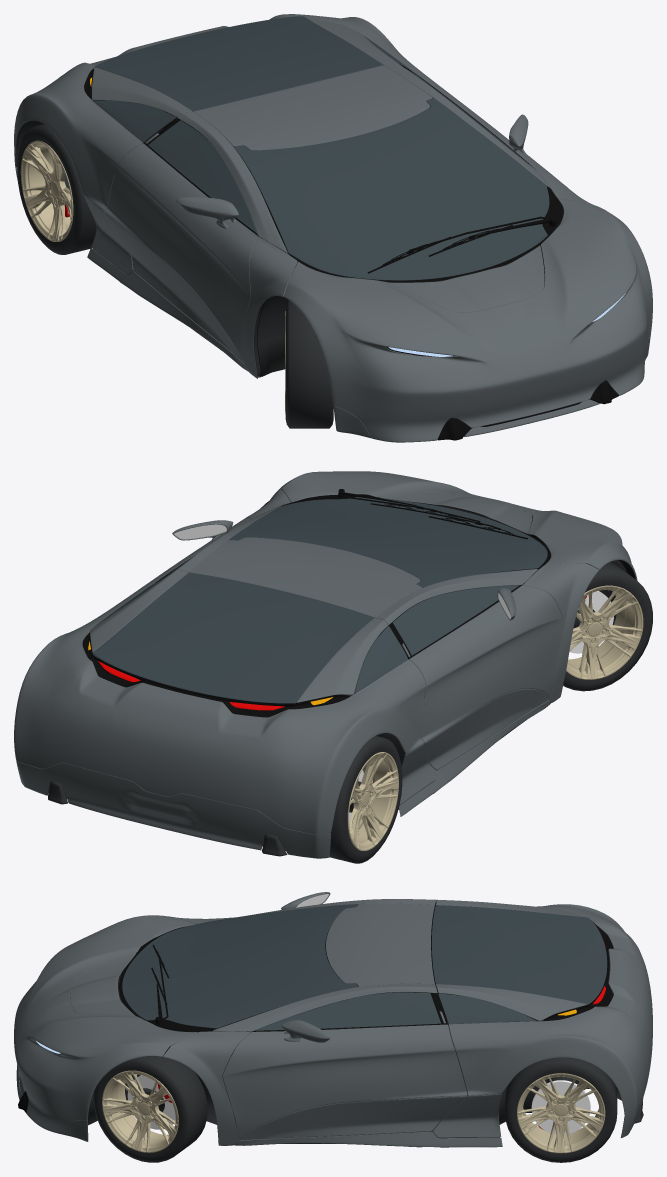
Rendered from detailing-car.glb.
The picture shows the model from 3 angles, top to bottom: view 1: azimuth 30°, elevation 25°; view 2: azimuth 150°, elevation 25°; view 3: azimuth 270°, elevation 25°; orthographic projection. The views are drawn at different scales.
Visible parts, largest first — view 1: BodyHood, BodyWindshield, BodyRearwindow, BodyDoorRColor1, BodyRearPanelsColor1, BodyRoofPanel, BodyPillars, BodyPanelsColor2, BodyHoodTopgrill, WheelFrontR, BodyDoorRWindow, WheelRearRRim (+9 smaller); view 2: BodyRearPanelsColor1, BodyRearwindow, BodyWindshield, BodyPanelsColor2, BodyDoorRColor1, BodyRoofPanel, BodyHood, BodyPillars, WheelFrontRRim, BodyDoorRColor2, WheelRearRRim, BodyDoorRWindow (+7 smaller); view 3: BodyWindshield, BodyRearPanelsColor1, BodyDoorLColor1, BodyHood, BodyRearwindow, BodyRoofPanel, BodyPillars, BodyDoorLColor2, BodyPanelsColor2, WheelFrontL, WheelRearLRim, WheelFrontLRim (+12 smaller).
Part boxes in pixels (x1,y1,x2,y2): BodyHood: [283, 198, 652, 442]; BodyWindshield: [234, 98, 549, 280]; BodyRearwindow: [94, 16, 382, 111]; BodyDoorRColor1: [104, 143, 257, 362]; BodyRearPanelsColor1: [14, 14, 428, 210]; BodyRoofPanel: [193, 65, 432, 150]; BodyPillars: [176, 61, 598, 378]; BodyPanelsColor2: [15, 167, 651, 438]; BodyHoodTopgrill: [388, 245, 544, 312]; WheelFrontR: [285, 299, 333, 428]; BodyDoorRWindow: [148, 120, 257, 234]; WheelRearRRim: [20, 140, 73, 241]; BodyRearPanelsColor1: [14, 569, 425, 834]; BodyRearwindow: [92, 572, 373, 703]; BodyWindshield: [229, 497, 547, 587]; BodyPanelsColor2: [16, 700, 550, 858]; BodyDoorRColor1: [409, 585, 562, 742]; BodyRoofPanel: [189, 537, 422, 617]; BodyHood: [279, 471, 637, 580]; BodyPillars: [175, 489, 599, 702]; WheelFrontRRim: [566, 585, 643, 679]; BodyDoorRColor2: [424, 688, 549, 769]; WheelRearRRim: [347, 752, 398, 850]; BodyDoorRWindow: [392, 585, 519, 655]; BodyWindshield: [122, 904, 358, 1028]; BodyRearPanelsColor1: [436, 899, 652, 1115]; BodyDoorLColor1: [222, 1024, 467, 1139]; BodyHood: [14, 915, 196, 1133]; BodyRearwindow: [431, 905, 607, 1004]; BodyRoofPanel: [326, 903, 434, 986]; BodyPillars: [163, 899, 437, 1145]; BodyDoorLColor2: [240, 1096, 467, 1140]; BodyPanelsColor2: [16, 1050, 652, 1147]; WheelFrontL: [93, 1054, 207, 1162]; WheelRearLRim: [517, 1073, 605, 1153]; WheelFrontLRim: [102, 1070, 178, 1152].
Bounding box in the file's own units: 2.54 × 1.15 × 4.36.
